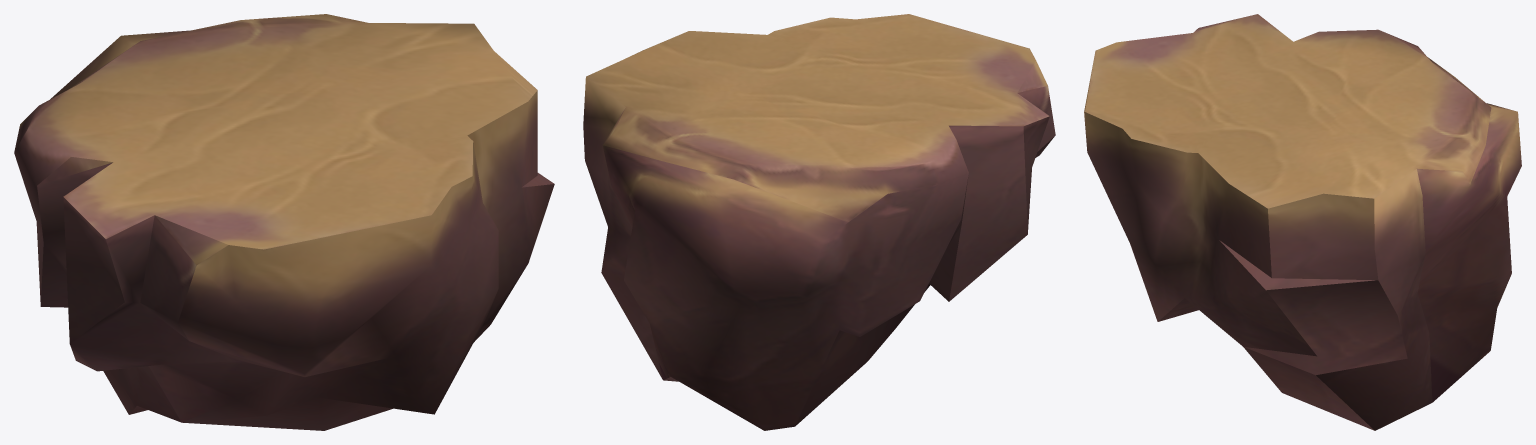
File: fstd_2_06.fbx
3 renders of one model, left to right at view 1: azimuth 30°, elevation 25°; view 2: azimuth 150°, elevation 25°; view 3: azimuth 270°, elevation 25°, orthographic. The views are drawn at different scales.
Parts seen in each view (by area): view 1: fstd_2_06; view 2: fstd_2_06; view 3: fstd_2_06.
Part boxes in pixels (x1,y1,x2,y2): fstd_2_06: [14, 14, 554, 430]; fstd_2_06: [583, 14, 1055, 430]; fstd_2_06: [1084, 14, 1521, 430].
Size of the model in its own units: 730 by 490 by 716.
